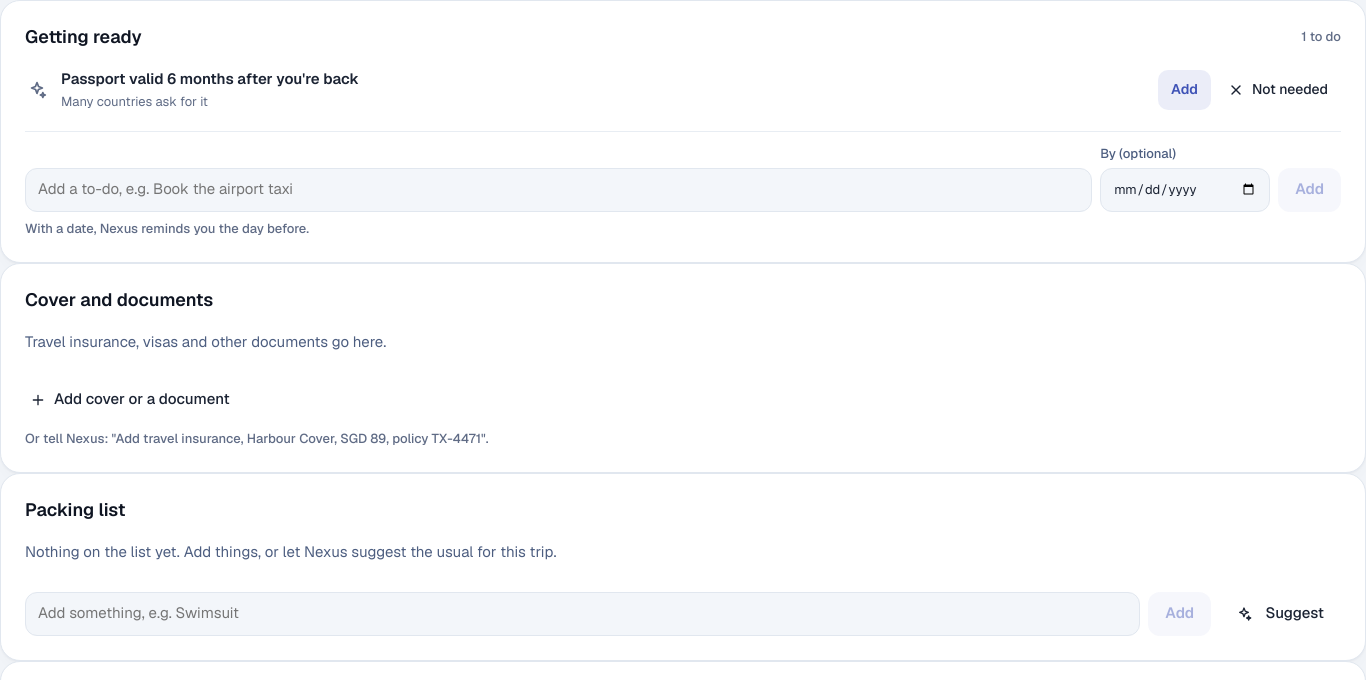
Scenario: Getting ready › 'Not needed' dismisses a suggestion
The image size is (1366, 680).
Expected: the text "Many countries ask for it" is shown, [61,93,208,110]
Click the button with aria-label "Not needed: Passport valid" at (1278, 90), box [1215,70,1341,110]
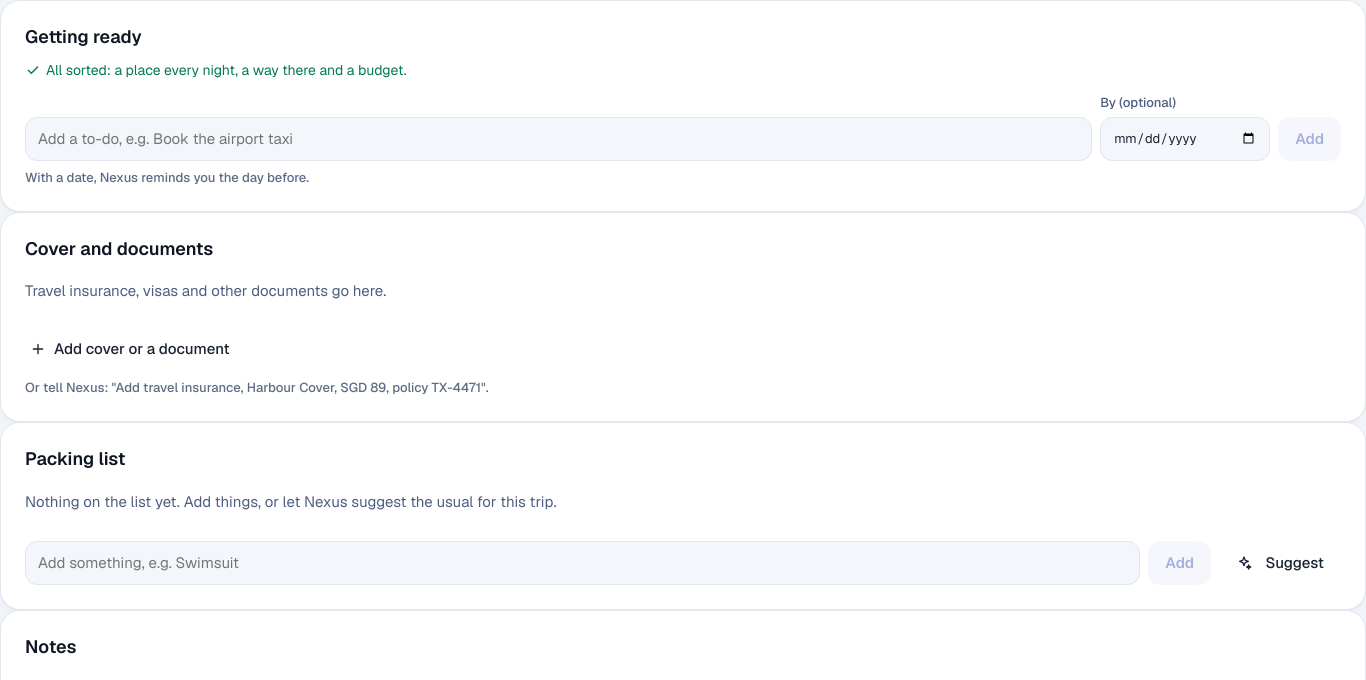
Expected: the text "Passport valid" is gone
